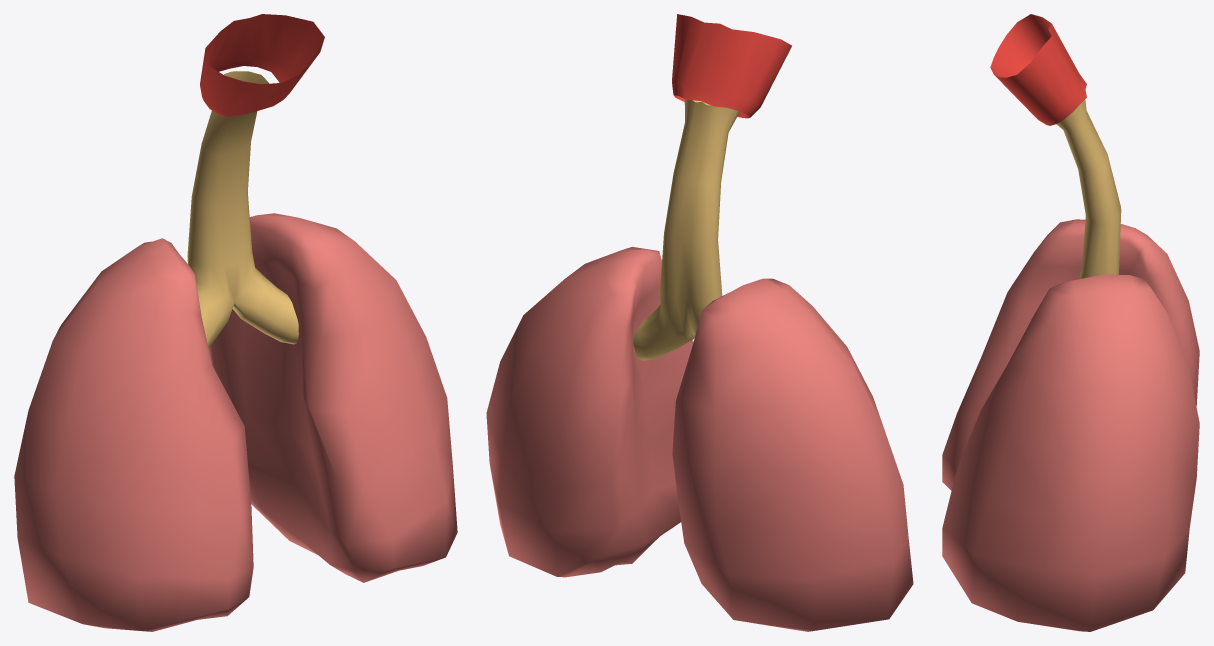
The model's file is SistemaRespiratorio.fbx.
3 renders of one model, left to right at view 1: azimuth 30°, elevation 25°; view 2: azimuth 150°, elevation 25°; view 3: azimuth 270°, elevation 25°, orthographic. The views are drawn at different scales.
Parts seen in each view (by area): view 1: Sphere, Cylinder, Cylinder.002; view 2: Sphere, Cylinder, Cylinder.002; view 3: Sphere, Cylinder.002, Cylinder.
Part boxes in pixels (left/top/right/bottom): Sphere: left=14, top=213, right=457, bottom=631; Cylinder: left=187, top=71, right=298, bottom=347; Cylinder.002: left=200, top=14, right=324, bottom=117; Sphere: left=486, top=247, right=913, bottom=631; Cylinder: left=633, top=99, right=739, bottom=360; Cylinder.002: left=672, top=14, right=791, bottom=118; Sphere: left=942, top=219, right=1199, bottom=631; Cylinder.002: left=990, top=14, right=1086, bottom=125; Cylinder: left=1056, top=99, right=1121, bottom=279.
Size of the model in its own units: 37.44 by 48.51 by 21.57.
